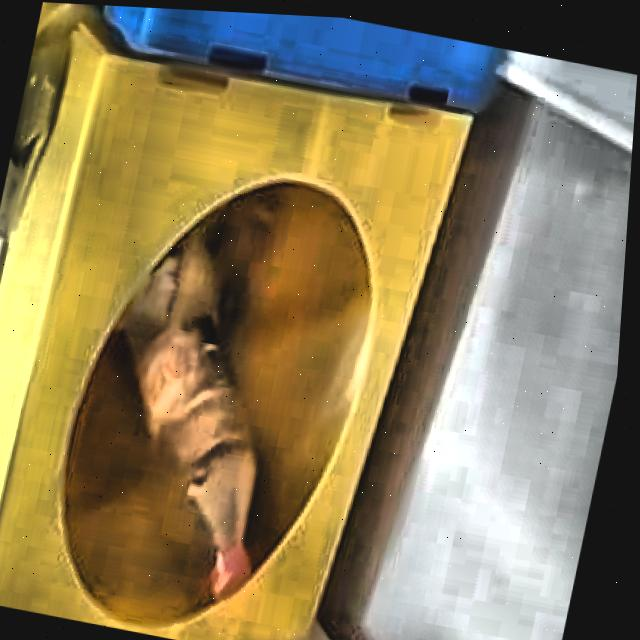plastic: (122, 227, 260, 598)
